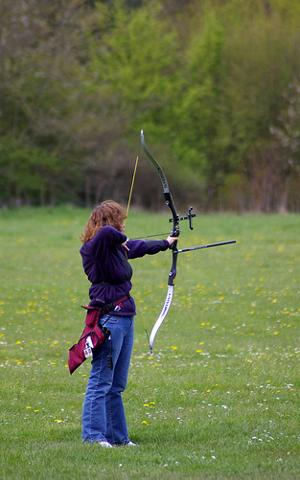person: (81, 200, 180, 447)
